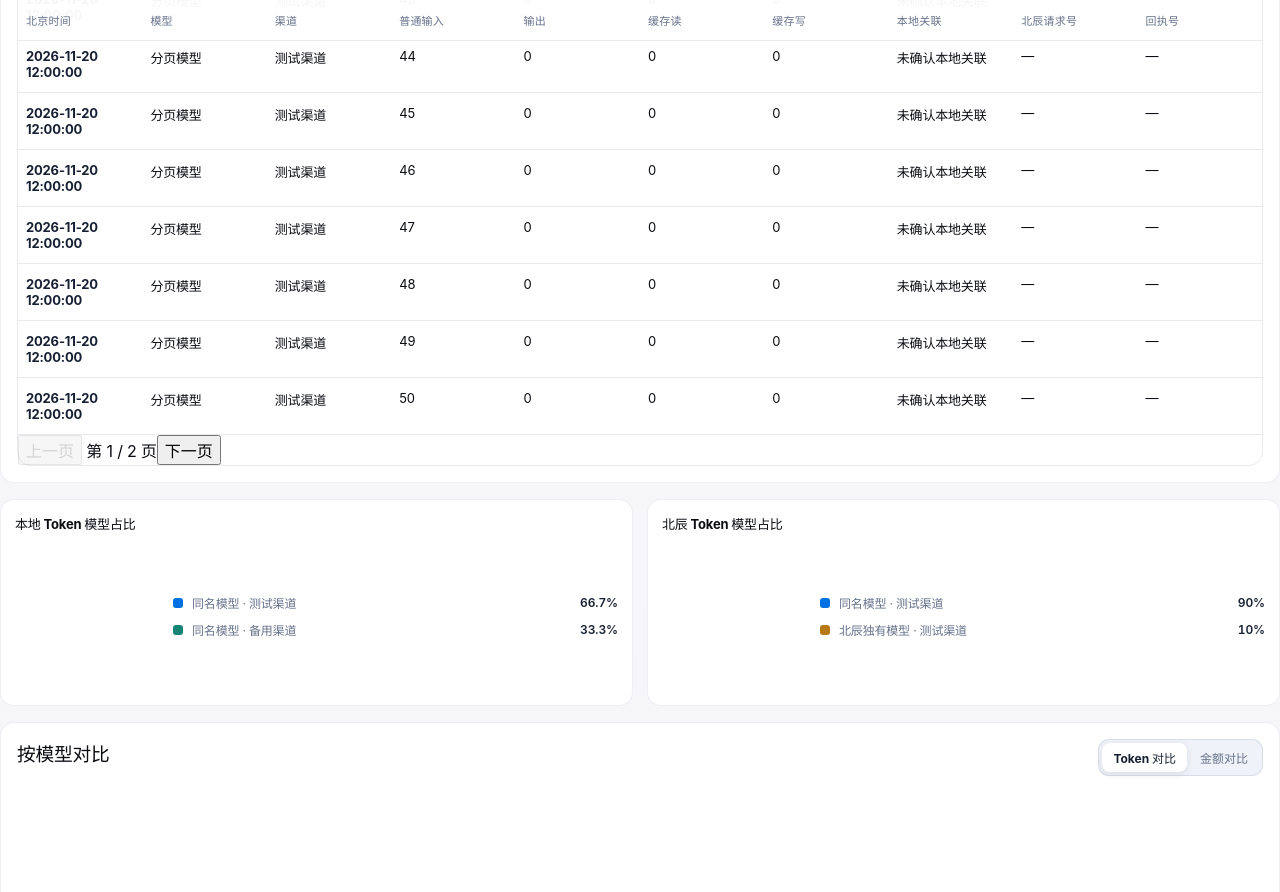
Test case: 北辰区间对账 › 旧翻页仍在读取时切换账期，新账期仍可翻到下一页
The image size is (1280, 892).
(page scrolled)
Click the button "下一页".
click(189, 450)  # box [157,435,221,465]
(page scrolled)
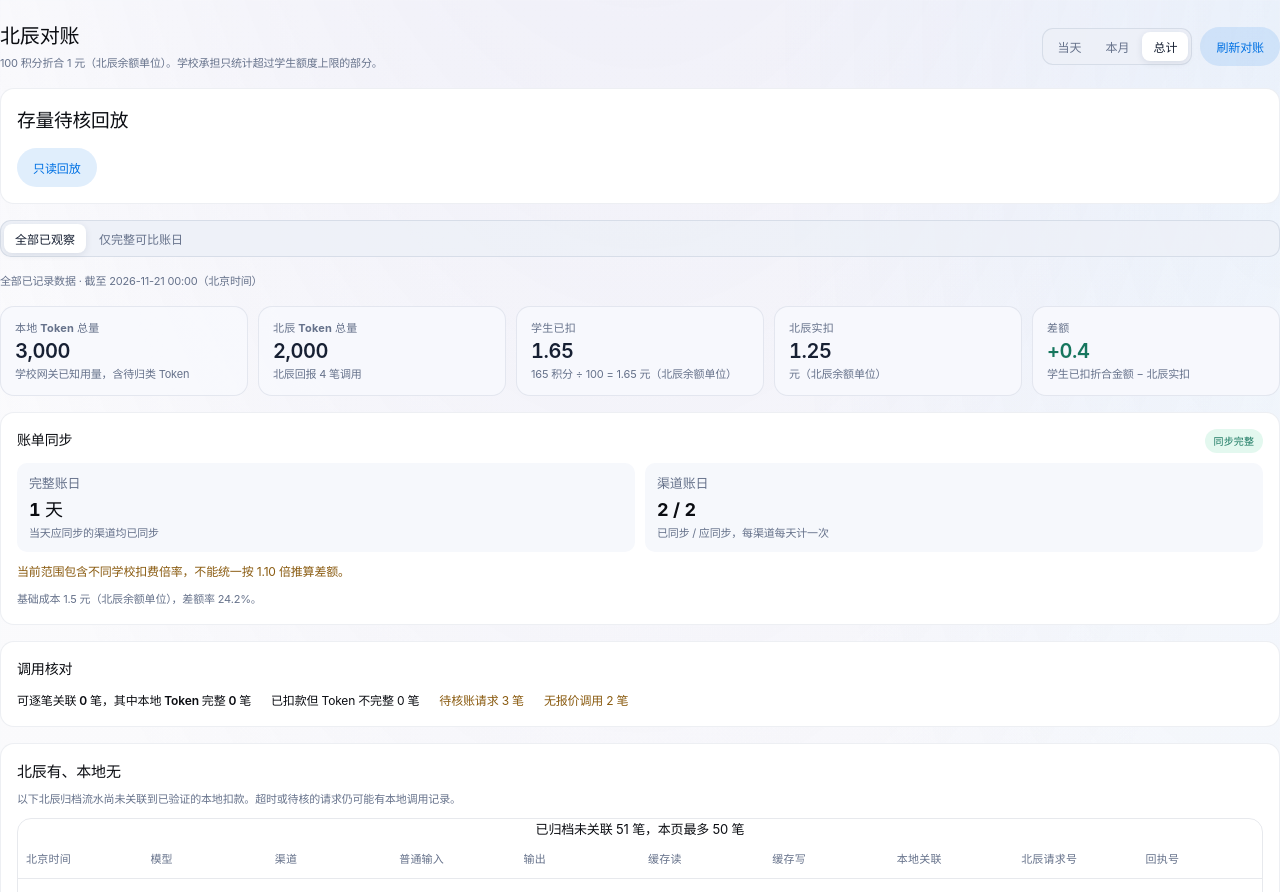
Click the button "本月".
click(1117, 46)  # box [1094,32,1140,60]
(page scrolled)
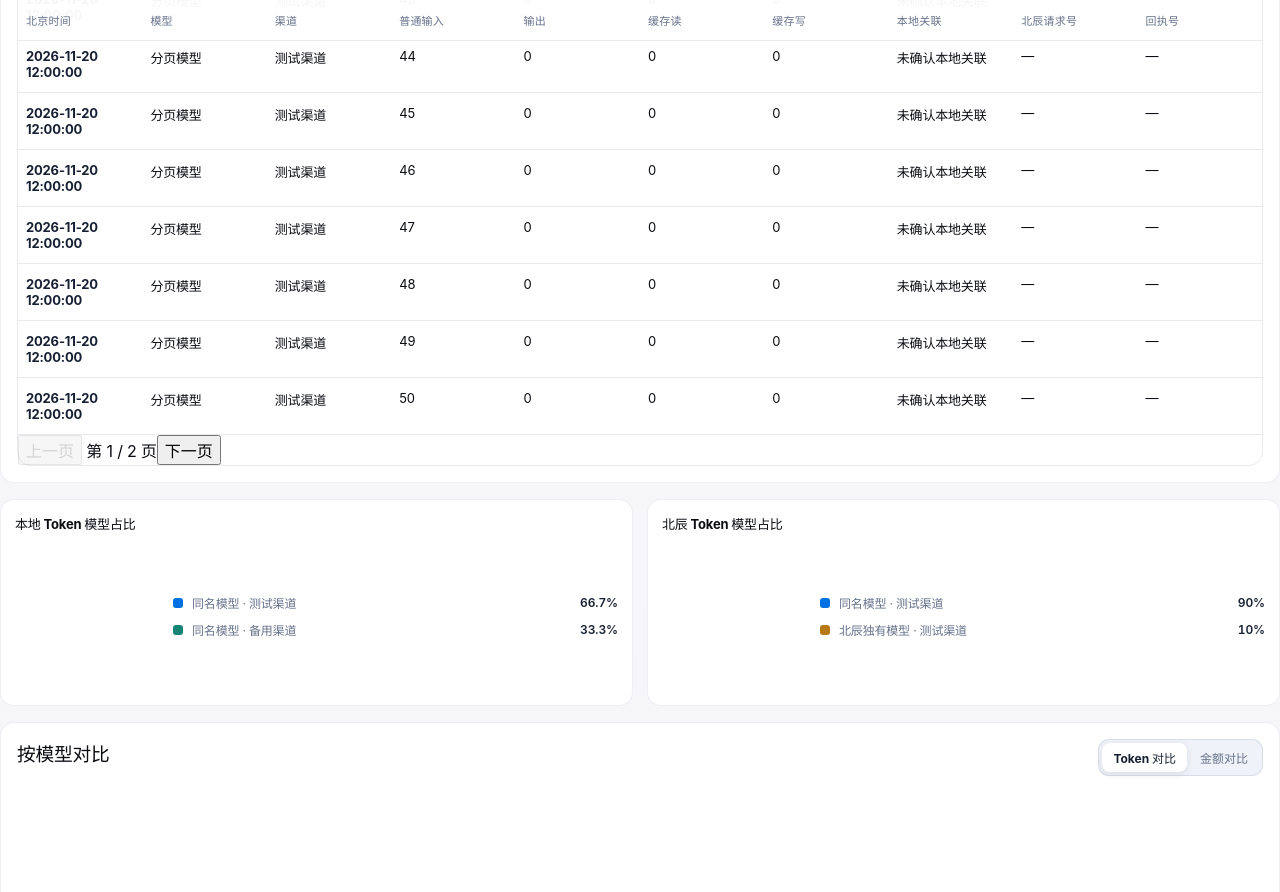
Expected: the button "下一页" is enabled
Click the button "下一页".
click(189, 450)  # box [157,435,221,465]
(page scrolled)
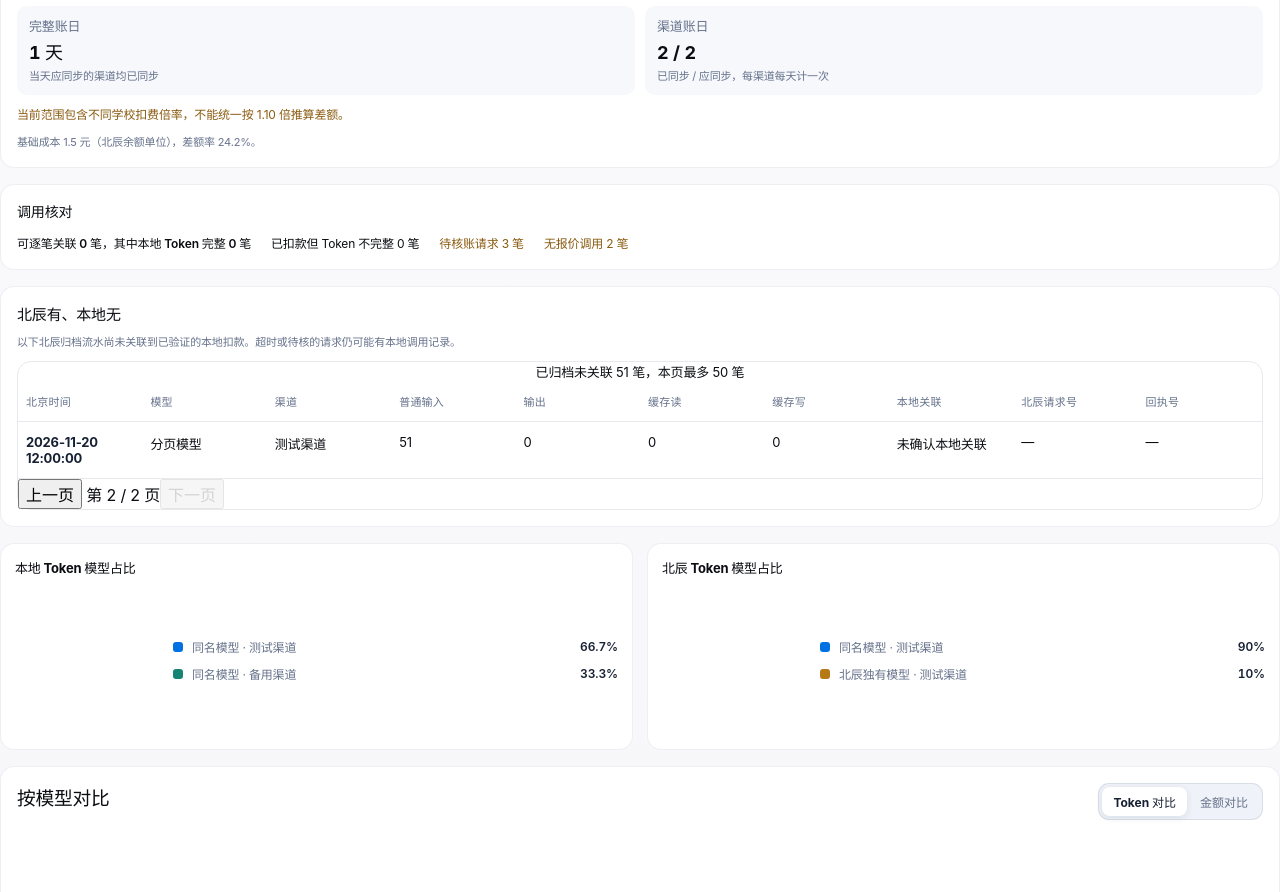
Expected: the navigation bar named "未关联流水翻页" shows "第 2 / 2 页", [82,485,160,505]
Expected: the table "2026-11-20 12:00:00 分页模型 测试渠道 51 0 0 0 未确认本地关联 — —" is shown, [18,422,1262,479]
